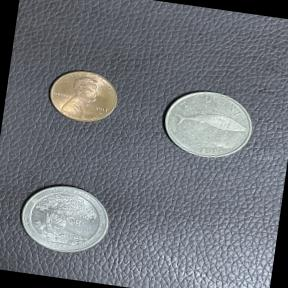coin: (154, 79, 261, 167), (11, 176, 119, 262), (41, 62, 125, 130)
